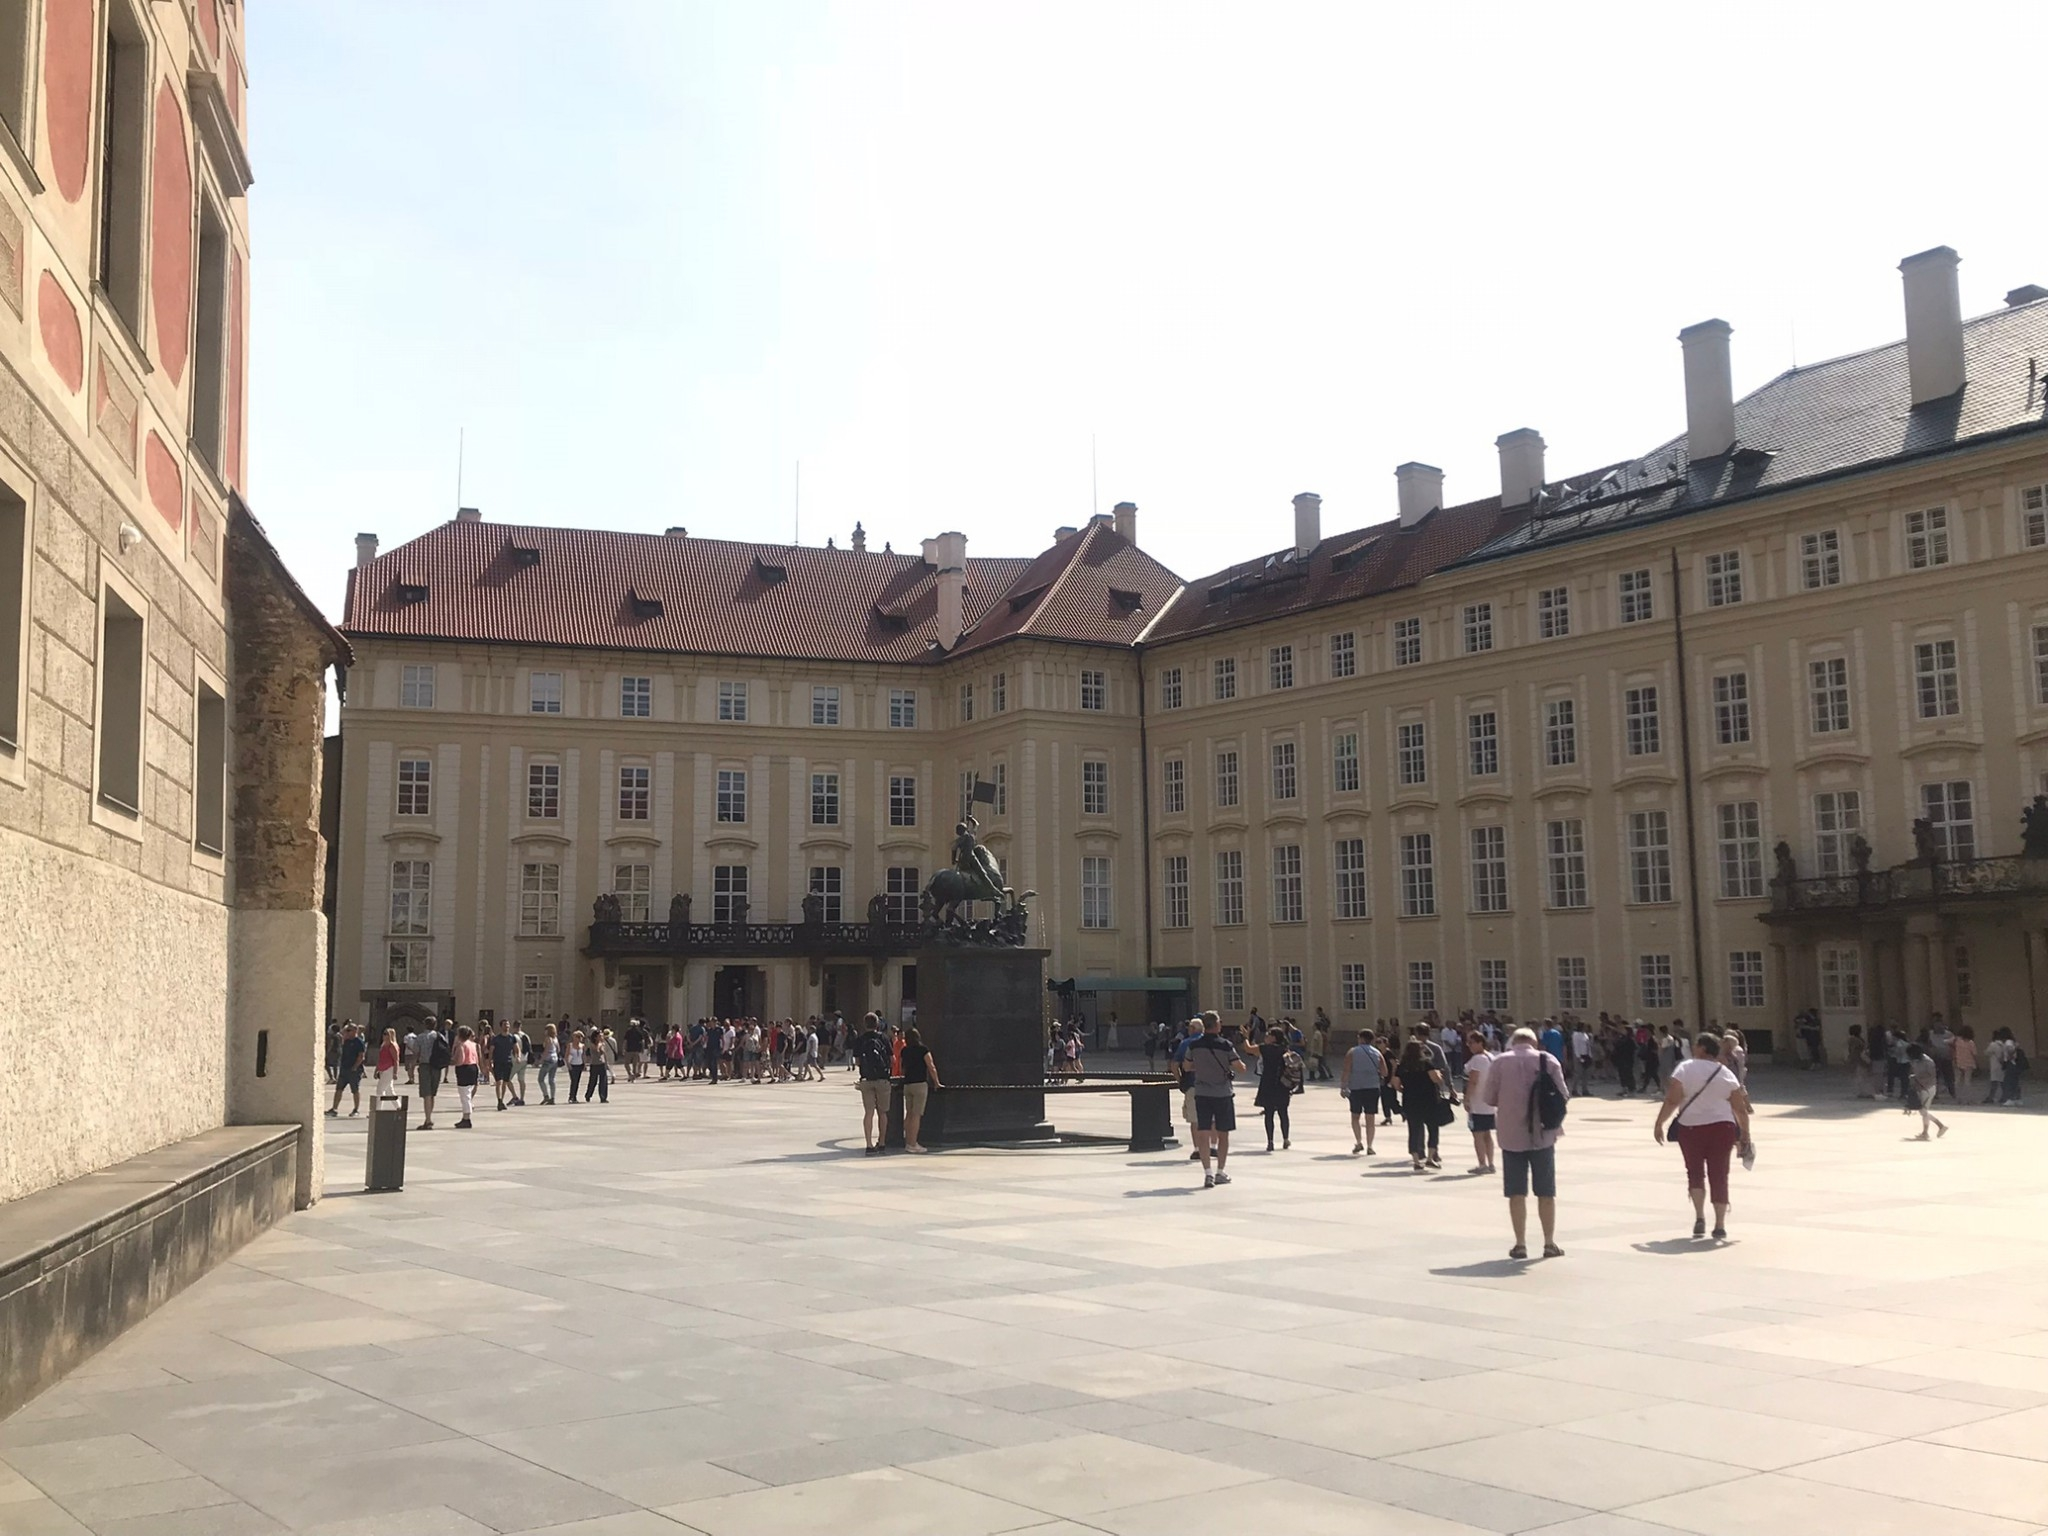people: (1487, 1013, 1572, 1263), (1669, 1013, 1749, 1255), (628, 1008, 831, 1090), (1172, 999, 1231, 1202), (907, 999, 954, 1169), (849, 999, 902, 1152), (1331, 1019, 1381, 1169), (1404, 1016, 1449, 1160), (1899, 1034, 1946, 1152), (1249, 1025, 1293, 1140), (528, 1016, 560, 1134), (416, 1025, 449, 1125), (452, 1025, 478, 1140), (1952, 1025, 1981, 1090), (2002, 1022, 2013, 1113)
